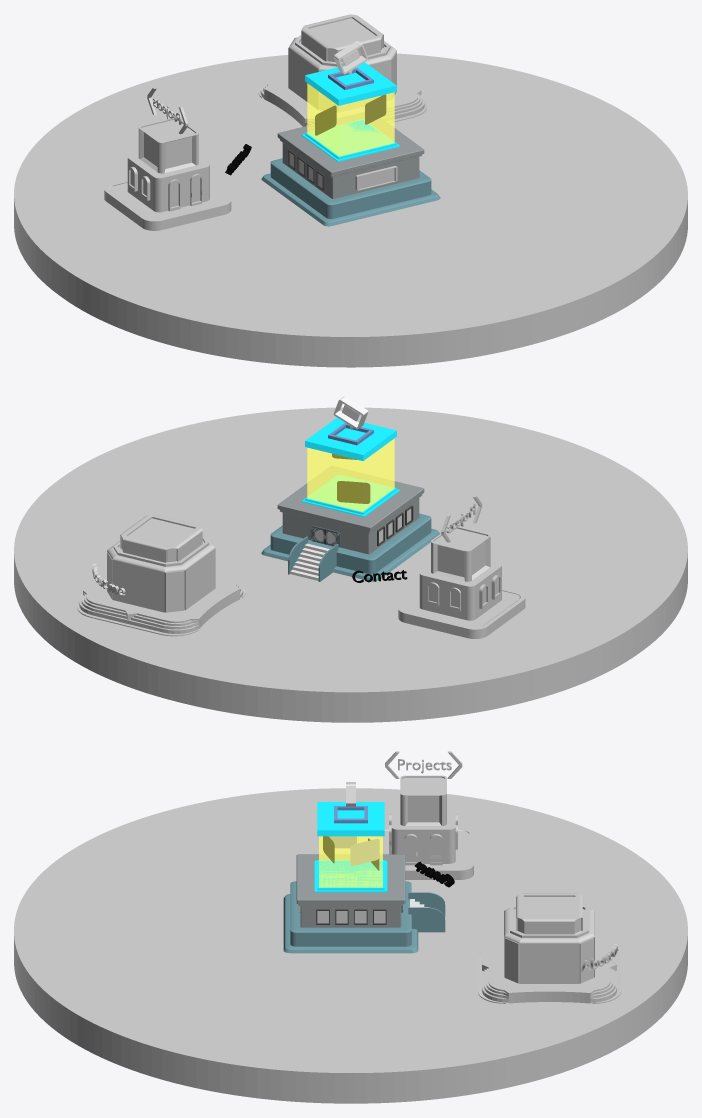
The model's file is profilepage.glb.
The picture shows the model from 3 angles, top to bottom: view 1: azimuth 30°, elevation 25°; view 2: azimuth 150°, elevation 25°; view 3: azimuth 270°, elevation 25°; orthographic projection.
Visible parts, largest first — view 1: Cube, Building2.body, Building3.body, Building1.etage, Building1.floor, Building1.digitalWindow, Building1.digitalWindowBorder, Building2.groBuilding2.top, Building3.ground, Building1.windowBack, Building1.letter, Building1.etageWindow (+1 smaller); view 2: Cube, Building3.body, Building2.body, Building1.etage, Building1.digitalWindow, Building3.ground, Building1.floor, Building1.digitalWindowBorder, Building2.groBuilding2.top, Building1.stairs, Building1.stairsHolding, Building1.screen1 (+3 smaller); view 3: Cube, Building3.body, Building1.etage, Building3.ground, Building1.floor, Building1.digitalWindowBorder, Building2.body, Building1.digitalWindow, Building2.groBuilding2.top, Building1.stairsHolding, Building1.etageWindow, Building2.Text (+1 smaller).
Boxes of the visible parts, x1,y1,x2,y2 form: Cube: [14, 53, 687, 367]; Building2.body: [104, 158, 231, 230]; Building3.body: [288, 14, 396, 112]; Building1.etage: [277, 112, 424, 198]; Building1.floor: [261, 158, 440, 226]; Building1.digitalWindow: [307, 83, 394, 156]; Building1.digitalWindowBorder: [301, 62, 400, 161]; Building2.groBuilding2.top: [127, 117, 209, 178]; Building3.ground: [258, 73, 426, 126]; Building1.windowBack: [355, 166, 397, 190]; Building1.letter: [333, 41, 368, 74]; Building1.etageWindow: [288, 150, 324, 190]; Cube: [14, 407, 687, 722]; Building3.body: [107, 514, 215, 612]; Building2.body: [398, 566, 525, 638]; Building1.etage: [277, 466, 424, 554]; Building1.digitalWindow: [307, 438, 394, 511]; Building3.ground: [77, 573, 245, 636]; Building1.floor: [261, 513, 439, 581]; Building1.digitalWindowBorder: [301, 417, 400, 517]; Building2.groBuilding2.top: [419, 526, 501, 586]; Building1.stairs: [290, 543, 329, 580]; Building1.stairsHolding: [288, 536, 338, 581]; Building1.screen1: [337, 481, 370, 503]; Cube: [14, 788, 687, 1103]; Building3.body: [504, 893, 594, 983]; Building1.etage: [296, 854, 405, 927]; Building3.ground: [478, 939, 620, 1003]; Building1.floor: [283, 881, 418, 953]; Building1.digitalWindowBorder: [314, 802, 387, 892]; Building2.body: [373, 814, 473, 879]; Building1.digitalWindow: [319, 836, 382, 887]; Building2.groBuilding2.top: [391, 775, 455, 829]; Building1.stairsHolding: [408, 892, 445, 932]; Building1.etageWindow: [316, 909, 386, 924]; Building2.Text: [385, 751, 462, 778].
Size of the model in its own units: 40 by 11.84 by 40.
